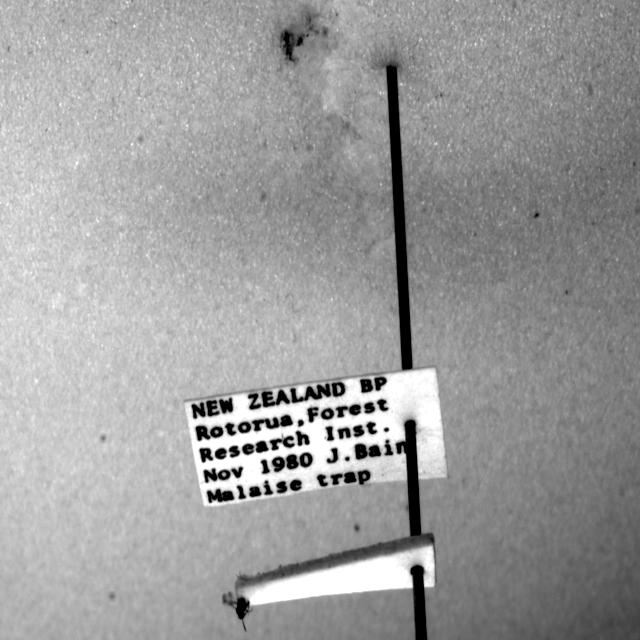typed_label: (185, 368, 448, 506)
